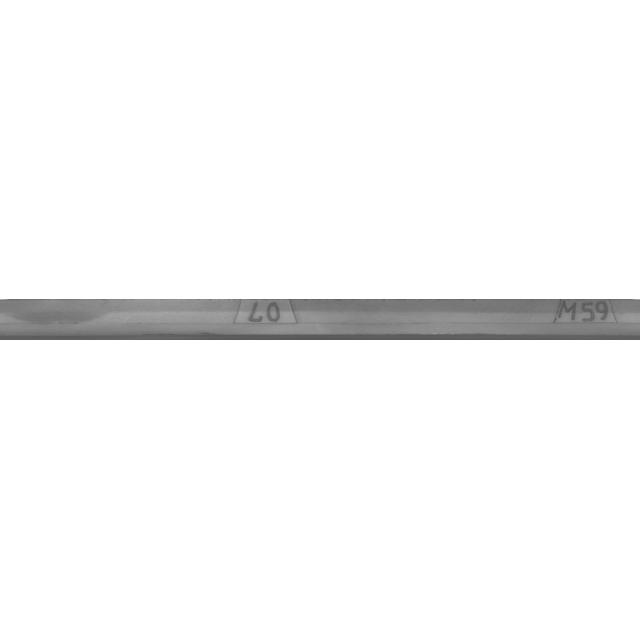mohao: (488, 270, 640, 370)
xuehao: (164, 270, 364, 370)
